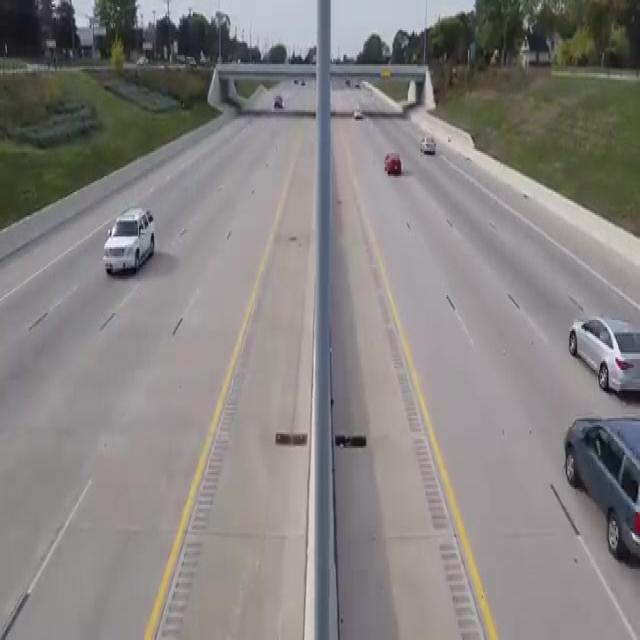car: (562, 393, 640, 562), (99, 196, 173, 291), (577, 294, 640, 402), (380, 149, 414, 210), (417, 135, 452, 191), (272, 80, 292, 130), (351, 106, 370, 126)
